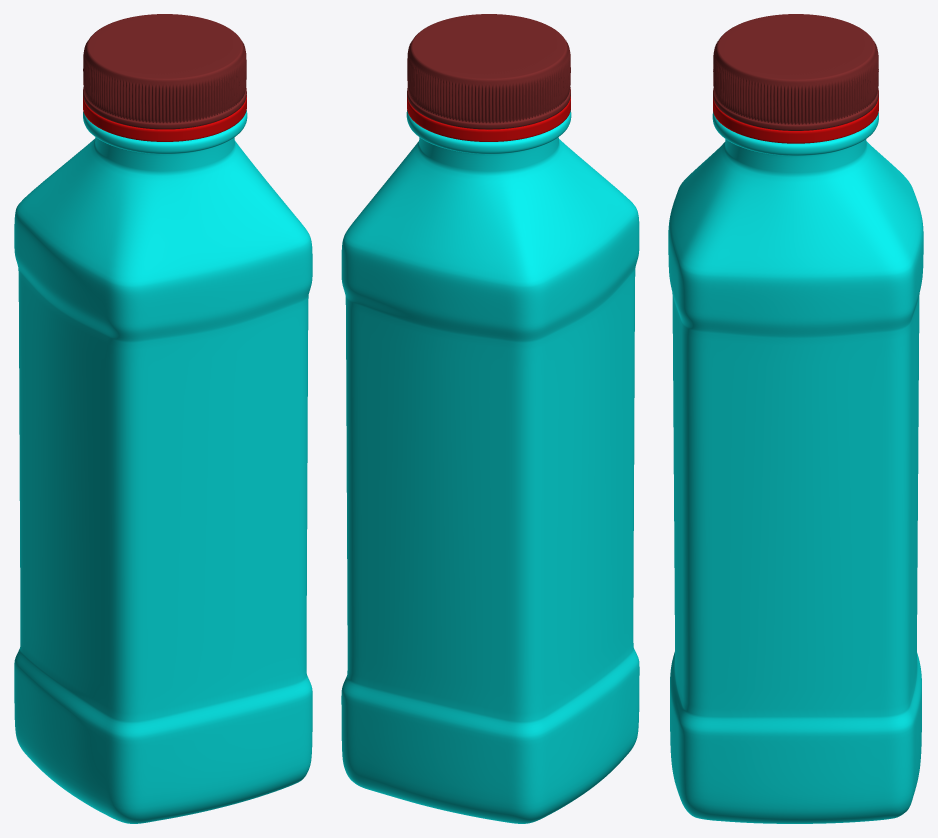
File: testpo.gltf
3 views of the same model, side by side, from view 1: azimuth 30°, elevation 25°; view 2: azimuth 150°, elevation 25°; view 3: azimuth 270°, elevation 25° (orthographic).
Parts seen in each view (by area): view 1: Bottle, Lid, Safety Ring; view 2: Bottle, Lid, Safety Ring; view 3: Bottle, Lid, Safety Ring.
Part boxes in pixels (box(x1,y1,x2,y2)): Bottle: box(14, 110, 312, 823); Lid: box(83, 14, 246, 129); Safety Ring: box(83, 95, 246, 141); Bottle: box(341, 110, 639, 823); Lid: box(407, 14, 570, 129); Safety Ring: box(407, 95, 570, 141); Bottle: box(668, 111, 923, 823); Lid: box(713, 14, 878, 130); Safety Ring: box(713, 97, 878, 143).
Size of the model in its own units: 0.00415 by 0.0132 by 0.00415.
